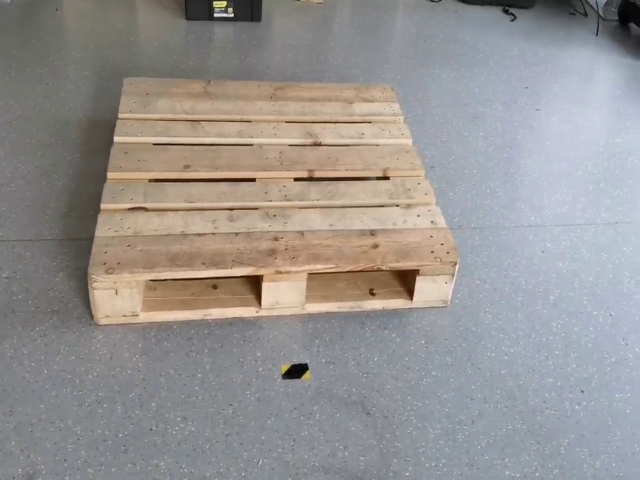block: (91, 272, 145, 334), (258, 267, 307, 319), (412, 261, 458, 308)
